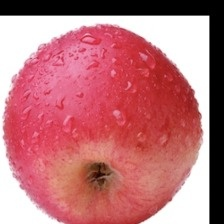apple: (16, 17, 211, 193)
